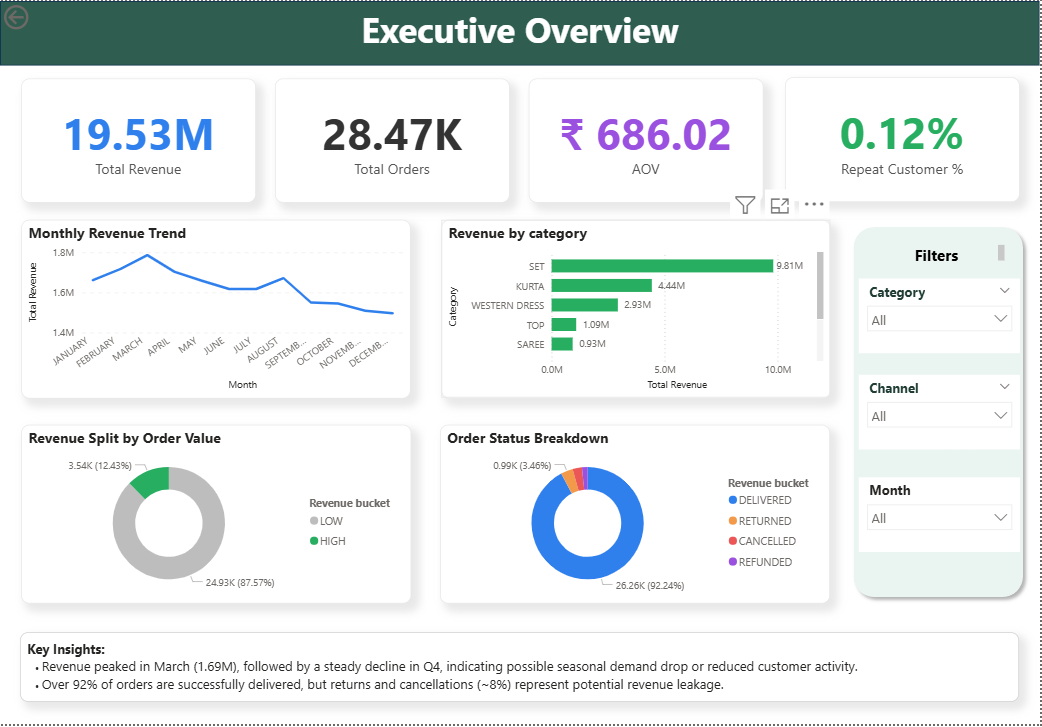

The dashboard page shown, as its layout file describes it:
{"tool":"powerbi","page":{"name":"Executive Overview","canvas":[1280,890],"ordinal":0},"visuals":[{"type":"shape","box":[0,0,1279.5,79.5],"z":0},{"type":"textbox","box":[0,0,1279.5,89.7],"z":1000},{"type":"card","fields":{"Values":["supply_chain orders.Total Revenue"]},"box":[25.6,94.9,288.5,152.6],"z":2000},{"type":"actionButton","box":[0,0,100,40],"z":3000},{"type":"card","fields":{"Values":["supply_chain orders.Total Orders"]},"box":[338.5,94.9,288.5,152.6],"z":4000},{"type":"card","fields":{"Values":["supply_chain orders.AOV"]},"box":[651.3,94.9,288.5,152.6],"z":5000},{"type":"card","fields":{"Values":["supply_chain orders.Repeat Customer %"]},"box":[966.7,93.6,288.5,153.8],"z":6000},{"type":"shape","box":[1042.2,268.8,226.6,473.4],"z":7000},{"type":"slicer","fields":{"Values":["supply_chain orders.category"]},"box":[1056.2,342.2,198.4,92.2],"z":8000},{"type":"slicer","fields":{"Values":["supply_chain orders.channel"]},"box":[1056.2,459.4,198.4,92.2],"z":9000},{"type":"slicer","fields":{"Values":["supply_chain orders.month"]},"box":[1056.2,585.9,198.4,92.2],"z":10000},{"type":"lineChart","title":"Monthly Revenue Trend","fields":{"Category":["supply_chain orders.month"],"Y":["supply_chain orders.Total Revenue"]},"box":[25.6,269.2,479.5,220],"z":11000},{"type":"clusteredBarChart","title":"Revenue by category","fields":{"Category":["supply_chain orders.category"],"Y":["supply_chain orders.Total Revenue"]},"box":[542.3,269.2,479.5,220],"z":12000},{"type":"donutChart","title":"Revenue Split by Order Value","fields":{"Category":["supply_chain orders.revenue_bucket"],"Y":["CountNonNull(supply_chain orders.order_id)"]},"box":[26.6,521.9,479.7,220.3],"z":13000},{"type":"donutChart","title":"Order Status Breakdown","fields":{"Y":["CountNonNull(supply_chain orders.order_id)"],"Category":["supply_chain orders.status"]},"box":[542.2,521.9,479.7,220.3],"z":14000},{"type":"textbox","box":[24.6,777,1229.5,85.2],"z":15000},{"type":"textbox","box":[1071.9,295.3,168.8,31.2],"z":16000}]}

Visuals, with their boxes in screenshot pixels (x1, y1, x2, y2), scaled from the page's 1280x890 canvas onto the 1042x727 screenshot:
shape: box(0, 0, 1041, 65)
textbox: box(0, 0, 1041, 73)
card - supply_chain orders.Total Revenue: box(21, 78, 256, 202)
actionButton: box(0, 0, 81, 33)
card - supply_chain orders.Total Orders: box(276, 78, 510, 202)
card - supply_chain orders.AOV: box(530, 78, 765, 202)
card - supply_chain orders.Repeat Customer %: box(787, 76, 1022, 202)
shape: box(848, 220, 1033, 606)
slicer - supply_chain orders.category: box(860, 280, 1021, 355)
slicer - supply_chain orders.channel: box(860, 375, 1021, 451)
slicer - supply_chain orders.month: box(860, 479, 1021, 554)
"Monthly Revenue Trend" lineChart: box(21, 220, 411, 400)
"Revenue by category" clusteredBarChart: box(441, 220, 832, 400)
"Revenue Split by Order Value" donutChart: box(22, 426, 412, 606)
"Order Status Breakdown" donutChart: box(441, 426, 832, 606)
textbox: box(20, 635, 1021, 704)
textbox: box(873, 241, 1010, 267)
